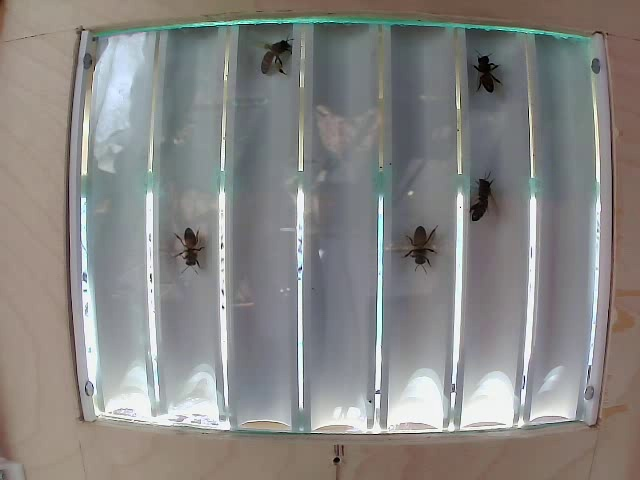bee: (171, 220, 223, 271), (388, 203, 431, 262), (465, 42, 503, 100), (463, 168, 494, 230), (263, 36, 296, 90)
